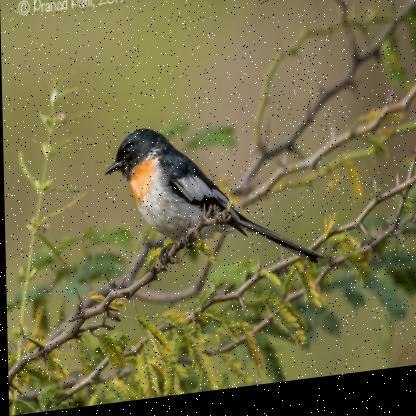Burung: (103, 114, 322, 292)
